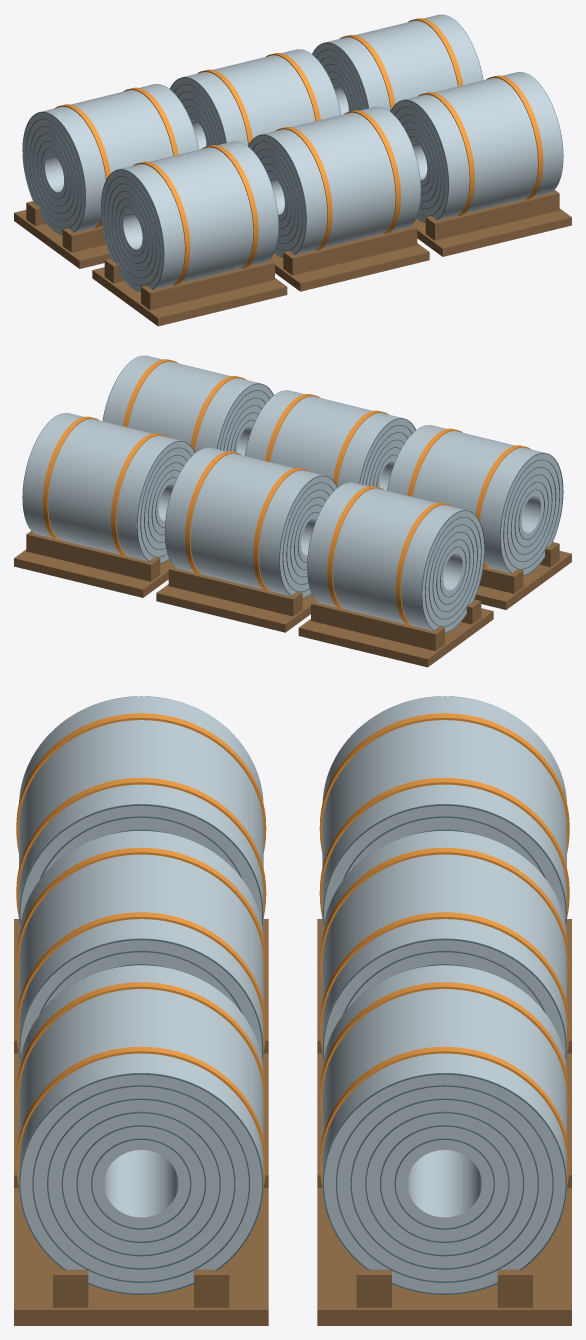
File: steel_cargo.glb
3 renders of one model, top to bottom at view 1: azimuth 30°, elevation 25°; view 2: azimuth 150°, elevation 25°; view 3: azimuth 270°, elevation 25°, orthographic. The views are drawn at different scales.
Parts seen in each view (by area): view 1: Hollow rolled steel coil, Hollow rolled steel coil.002, Hollow rolled steel coil.004, Hollow rolled steel coil.001, Hollow rolled steel coil.005, Hollow rolled steel coil.003, Base skid, Base skid.002, Base skid.004, Timber cradle.004, Timber cradle.008, Timber cradle (+14 smaller); view 2: Hollow rolled steel coil.001, Hollow rolled steel coil.003, Hollow rolled steel coil.005, Hollow rolled steel coil, Hollow rolled steel coil.004, Hollow rolled steel coil.002, Base skid.001, Base skid.003, Base skid.005, Timber cradle.007, Timber cradle.011, Timber cradle.003 (+14 smaller); view 3: Hollow rolled steel coil.004, Hollow rolled steel coil.005, Hollow rolled steel coil.002, Hollow rolled steel coil.003, Hollow rolled steel coil, Hollow rolled steel coil.001, Base skid.004, Base skid.005, Securing band.008, Securing band.010, Securing band, Securing band.002 (+30 smaller).
Boxes of the visible parts, left/top/right/bottom form: Hollow rolled steel coil: left=101, top=141, right=278, bottom=291; Hollow rolled steel coil.002: left=249, top=106, right=420, bottom=256; Hollow rolled steel coil.004: left=391, top=72, right=562, bottom=221; Hollow rolled steel coil.001: left=23, top=84, right=198, bottom=233; Hollow rolled steel coil.005: left=313, top=14, right=482, bottom=114; Hollow rolled steel coil.003: left=170, top=49, right=340, bottom=149; Base skid: left=92, top=267, right=287, bottom=326; Base skid.002: left=270, top=243, right=429, bottom=291; Base skid.004: left=412, top=208, right=571, bottom=256; Timber cradle.004: left=283, top=224, right=417, bottom=275; Timber cradle.008: left=425, top=190, right=559, bottom=240; Timber cradle: left=141, top=259, right=274, bottom=310; Hollow rolled steel coil.001: left=307, top=482, right=484, bottom=632; Hollow rolled steel coil.003: left=165, top=447, right=336, bottom=597; Hollow rolled steel coil.005: left=23, top=413, right=194, bottom=562; Hollow rolled steel coil: left=387, top=425, right=562, bottom=574; Hollow rolled steel coil.004: left=103, top=355, right=272, bottom=455; Hollow rolled steel coil.002: left=245, top=390, right=415, bottom=490; Base skid.001: left=298, top=608, right=493, bottom=667; Base skid.003: left=156, top=584, right=315, bottom=632; Base skid.005: left=14, top=549, right=173, bottom=597; Timber cradle.007: left=168, top=565, right=302, bottom=616; Timber cradle.011: left=26, top=531, right=160, bottom=581; Timber cradle.003: left=311, top=600, right=444, bottom=651; Hollow rolled steel coil.004: left=19, top=965, right=263, bottom=1293; Hollow rolled steel coil.005: left=322, top=965, right=566, bottom=1293; Hollow rolled steel coil.002: left=19, top=831, right=263, bottom=1062; Hollow rolled steel coil.003: left=322, top=831, right=566, bottom=1062; Hollow rolled steel coil: left=19, top=696, right=263, bottom=927; Hollow rolled steel coil.001: left=322, top=696, right=566, bottom=927; Base skid.004: left=14, top=1188, right=268, bottom=1325; Base skid.005: left=317, top=1188, right=571, bottom=1325; Securing band.008: left=16, top=982, right=266, bottom=1121; Securing band.010: left=319, top=982, right=569, bottom=1121; Securing band: left=16, top=713, right=266, bottom=852; Securing band.002: left=319, top=713, right=569, bottom=852.
Size of the model in its own units: 9.45 by 2.8 by 5.7.
